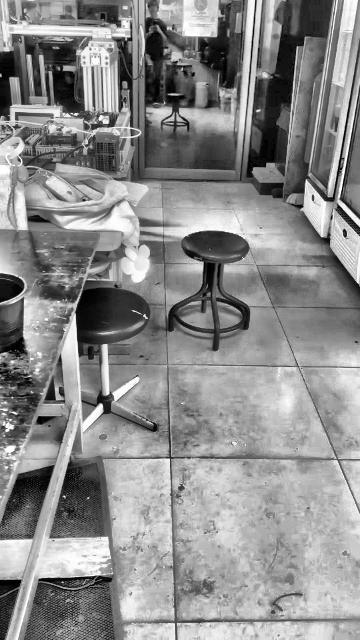pot: (0, 272, 27, 353)
